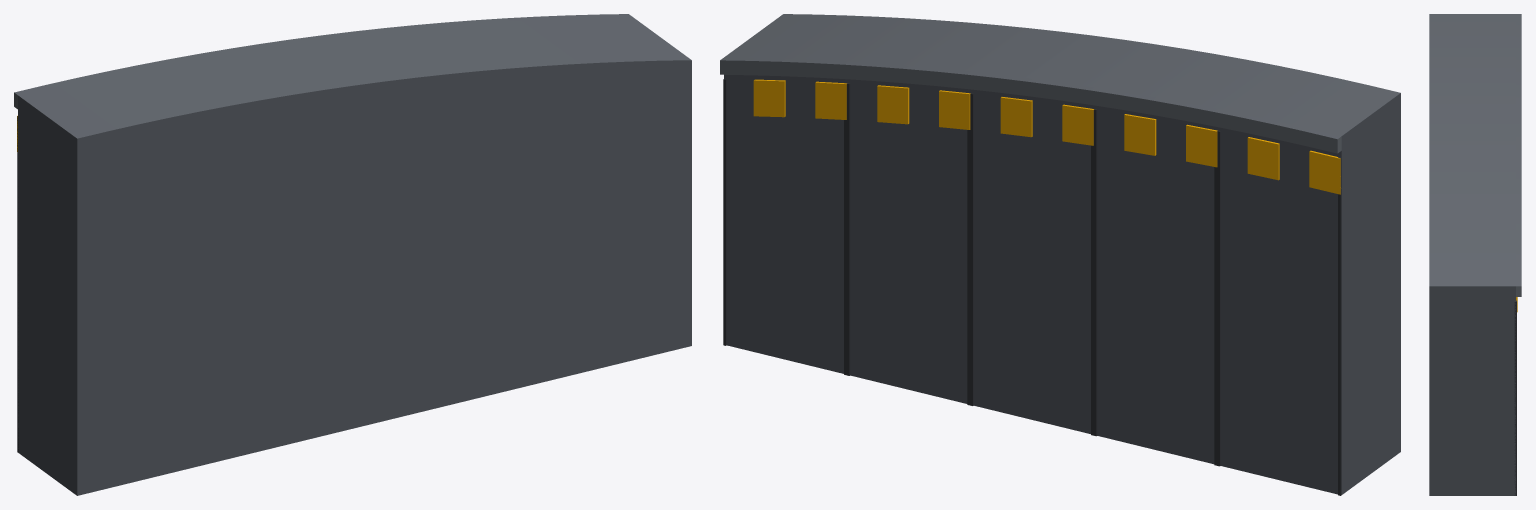
3 views of the same model, side by side, from view 1: azimuth 30°, elevation 25°; view 2: azimuth 150°, elevation 25°; view 3: azimuth 270°, elevation 25° (orthographic). The views are drawn at different scales.
Parts seen in each view (by area): view 1: e1wf; view 2: e1wf; view 3: e1wf.
Boxes of the visible parts, x1,y1,x2,y2 form: e1wf: (14, 14, 691, 495); e1wf: (720, 14, 1400, 495); e1wf: (1429, 14, 1521, 495).
Size of the model in its own units: 9 by 5 by 1.6.
